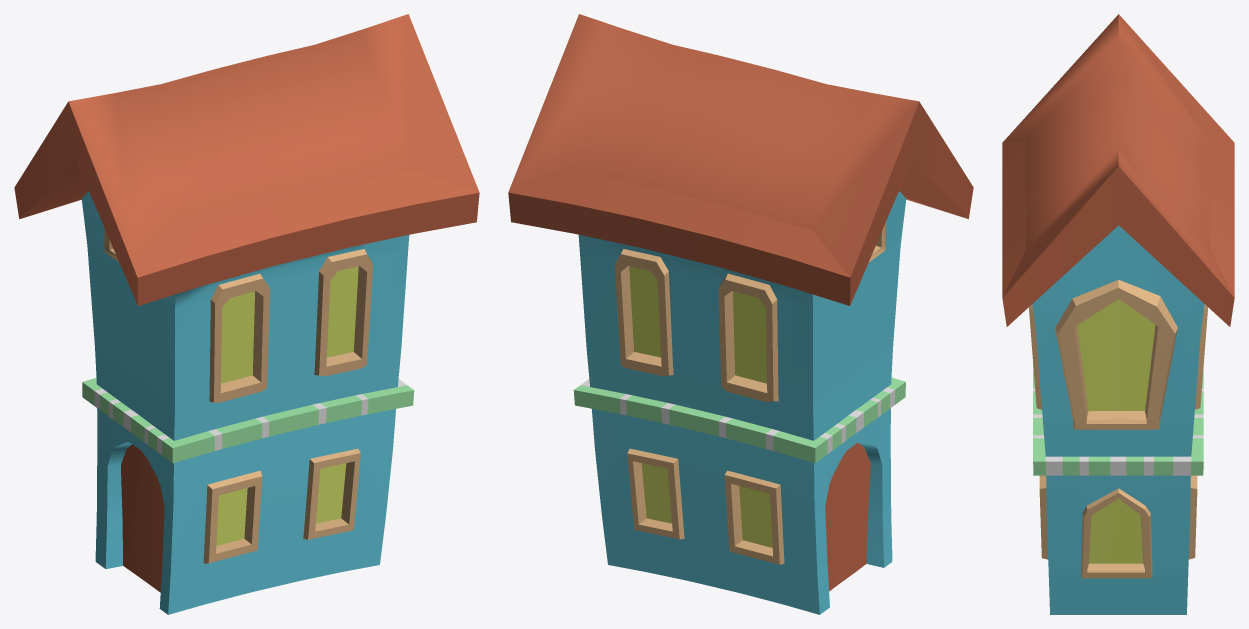
Rendered from House02.fbx.
The picture shows the model from 3 angles, left to right: view 1: azimuth 30°, elevation 25°; view 2: azimuth 150°, elevation 25°; view 3: azimuth 270°, elevation 25°; orthographic projection. The views are drawn at different scales.
Parts seen in each view (by area): view 1: House02; view 2: House02; view 3: House02.
Part boxes in pixels (box(x1,y1,x2,y2)): House02: box(14, 14, 479, 614); House02: box(508, 14, 973, 614); House02: box(1002, 14, 1234, 614).
Size of the model in its own units: 2.05 by 2.85 by 1.25.
